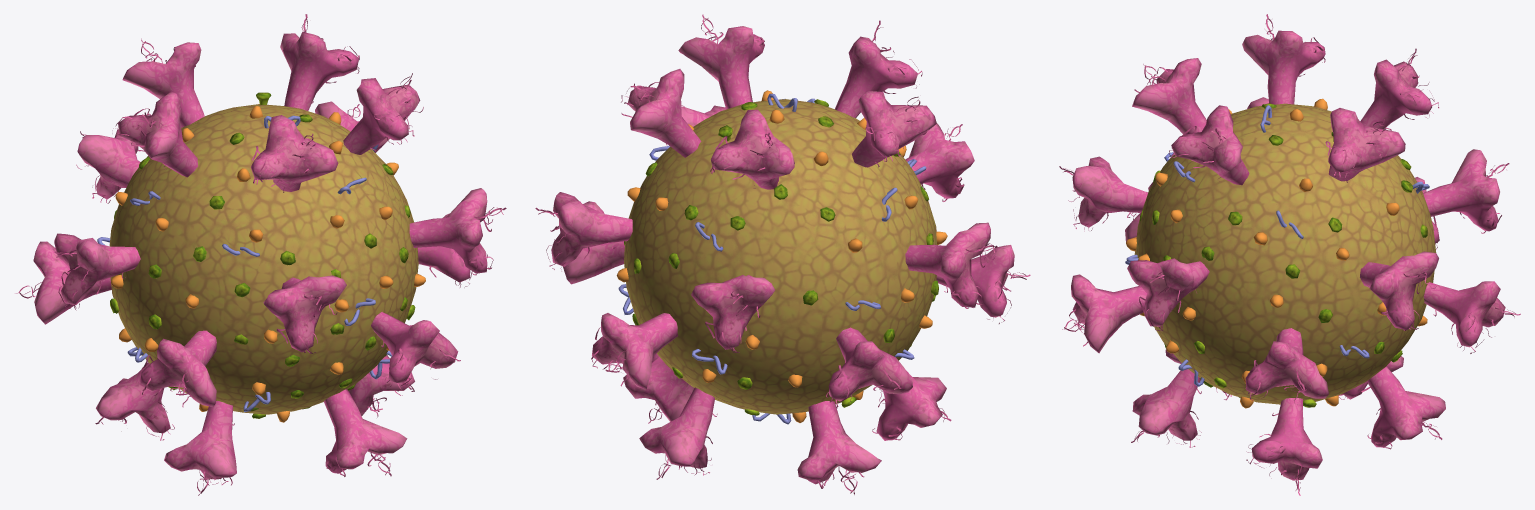
3 renders of one model, left to right at view 1: azimuth 30°, elevation 25°; view 2: azimuth 150°, elevation 25°; view 3: azimuth 270°, elevation 25°, orthographic. The views are drawn at different scales.
Parts seen in each view (by area): view 1: Envelope-low, Spike Glycoprotein (S).018, Spike Glycoprotein (S).009, Spike Glycoprotein (S).002, Spike Glycoprotein (S).012, Spike Glycoprotein (S).021, Spike Glycoprotein (S).017, Spike Glycoprotein (S).013, Spike Glycoprotein (S).014, Spike Glycoprotein (S).008, Spike Glycoprotein (S).019, Spike Glycoprotein (S).004 (+7 smaller); view 2: Envelope-low, Spike Glycoprotein (S).011, Spike Glycoprotein (S).017, Spike Glycoprotein (S).020, Spike Glycoprotein (S).019, Spike Glycoprotein (S).005, Spike Glycoprotein (S).014, Spike Glycoprotein (S).021, Spike Glycoprotein (S).010, Spike Glycoprotein (S).015, Spike Glycoprotein (S).016, Spike Glycoprotein (S).006 (+6 smaller); view 3: Envelope-low, Spike Glycoprotein (S).021, Spike Glycoprotein (S).006, Spike Glycoprotein (S).015, Spike Glycoprotein (S).019, Spike Glycoprotein (S).008, Spike Glycoprotein (S).007, Spike Glycoprotein (S).016, Spike Glycoprotein (S).018, Spike Glycoprotein (S).011, Spike Glycoprotein (S).003, Spike Glycoprotein (S).012 (+4 smaller).
Boxes of the visible parts, x1,y1,x2,y2 form: Envelope-low: (109,104,418,414); Spike Glycoprotein (S).018: (251,115,338,192); Spike Glycoprotein (S).009: (139,330,216,407); Spike Glycoprotein (S).002: (323,389,407,476); Spike Glycoprotein (S).012: (409,188,506,275); Spike Glycoprotein (S).021: (280,14,359,110); Spike Glycoprotein (S).017: (343,73,423,154); Spike Glycoprotein (S).013: (263,275,346,353); Spike Glycoprotein (S).014: (54,233,140,310); Spike Glycoprotein (S).008: (371,312,460,391); Spike Glycoprotein (S).019: (112,91,197,177); Spike Glycoprotein (S).004: (164,401,236,495); Envelope-low: (624,99,937,414); Spike Glycoprotein (S).011: (591,313,677,389); Spike Glycoprotein (S).017: (678,14,764,109); Spike Glycoprotein (S).020: (710,109,794,189); Spike Glycoprotein (S).019: (852,90,936,167); Spike Glycoprotein (S).005: (797,401,881,494); Spike Glycoprotein (S).014: (905,222,997,308); Spike Glycoprotein (S).021: (621,69,701,157); Spike Glycoprotein (S).010: (826,327,912,408); Spike Glycoprotein (S).015: (691,275,774,353); Spike Glycoprotein (S).016: (535,192,632,271); Spike Glycoprotein (S).006: (639,387,717,479); Envelope-low: (1134,103,1436,404); Spike Glycoprotein (S).021: (1325,108,1405,182); Spike Glycoprotein (S).006: (1367,366,1445,449); Spike Glycoprotein (S).015: (1423,149,1509,233); Spike Glycoprotein (S).019: (1242,14,1325,104); Spike Glycoprotein (S).008: (1062,274,1146,353); Spike Glycoprotein (S).007: (1245,328,1328,404); Spike Glycoprotein (S).016: (1360,251,1438,330); Spike Glycoprotein (S).018: (1132,58,1206,134); Spike Glycoprotein (S).011: (1423,281,1520,353); Spike Glycoprotein (S).003: (1246,398,1322,495); Spike Glycoprotein (S).012: (1127,258,1209,331).
Size of the model in its own units: 272 by 227 by 262.
1 material, 1 textured.
